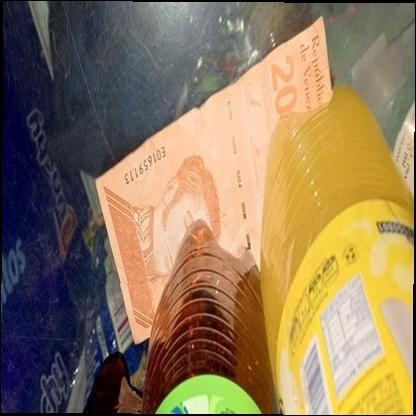twenty-front-vef: (94, 15, 332, 344)
